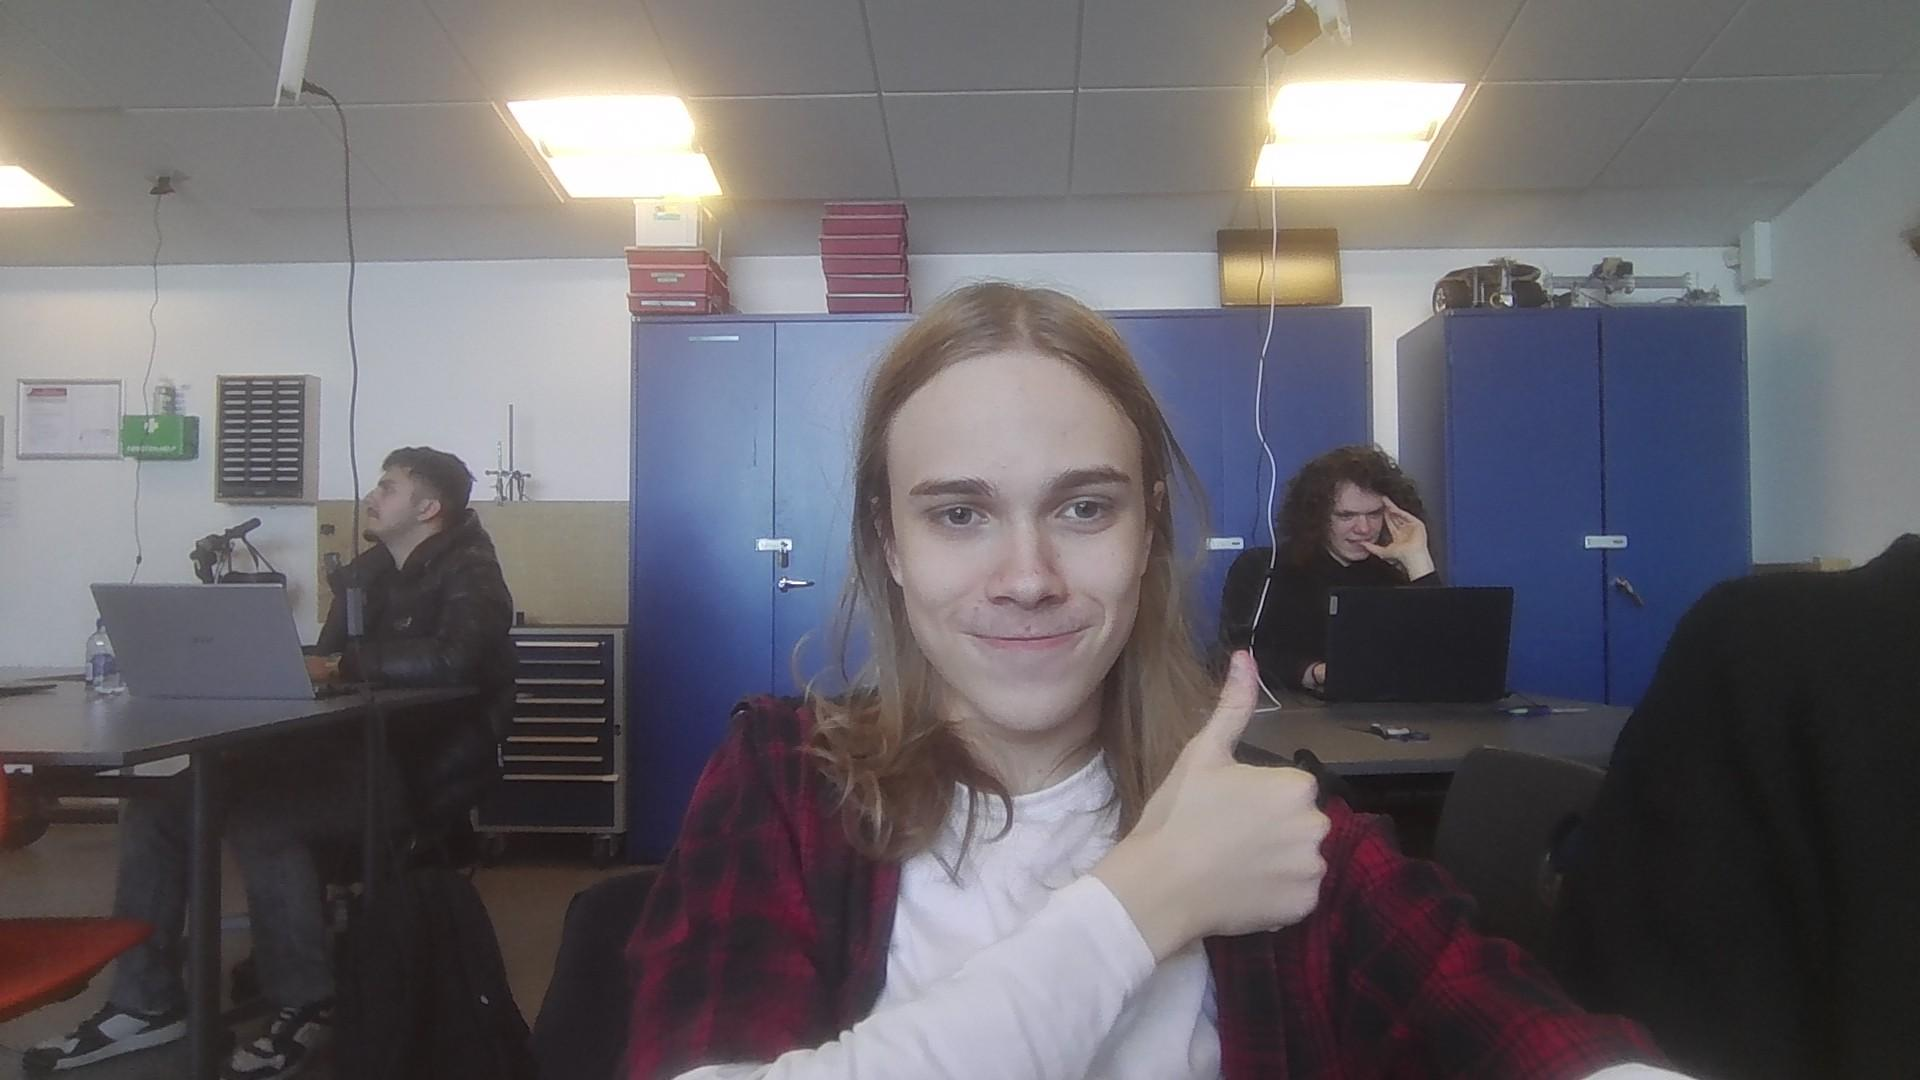thumbs up: (1141, 644, 1333, 949)
